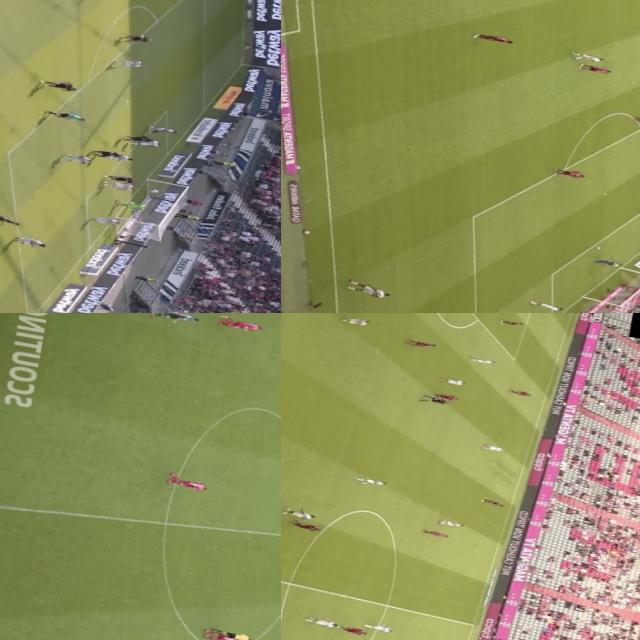ball: (593, 243, 608, 250)
player: (218, 313, 265, 333), (350, 279, 394, 300), (167, 473, 209, 494), (10, 229, 46, 251), (100, 146, 138, 164), (196, 627, 246, 640), (148, 313, 202, 325), (41, 76, 80, 92), (476, 29, 515, 45), (524, 296, 564, 311), (116, 30, 153, 46), (56, 150, 98, 164), (546, 164, 588, 178), (88, 212, 124, 228), (88, 146, 124, 162), (304, 612, 340, 628), (124, 134, 164, 148), (354, 472, 389, 488), (282, 506, 318, 520), (288, 517, 320, 532), (578, 60, 612, 74), (572, 49, 606, 63), (340, 314, 374, 328), (364, 620, 396, 634), (111, 56, 148, 68), (114, 198, 150, 210), (103, 180, 139, 192), (118, 132, 154, 144), (592, 256, 625, 269), (337, 622, 367, 636), (104, 171, 136, 184), (148, 125, 180, 138), (147, 122, 179, 134), (436, 373, 466, 385), (0, 210, 21, 227), (481, 495, 506, 509), (434, 390, 460, 402), (438, 516, 466, 526), (409, 338, 436, 348), (468, 355, 498, 364), (499, 318, 526, 328), (426, 528, 452, 538), (511, 386, 532, 396), (484, 442, 504, 451), (631, 111, 640, 128)
